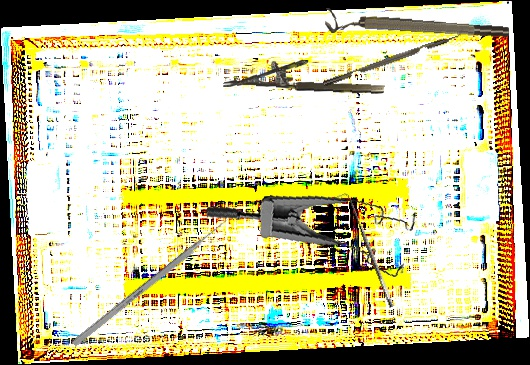Chopper: (320, 25, 467, 87)
Fixation Ring: (324, 8, 510, 48)
Hook Surgical: (336, 189, 396, 312)
Needle Holder: (223, 55, 386, 96)
Pusher: (71, 212, 236, 348)
Speculum: (203, 173, 427, 305)
